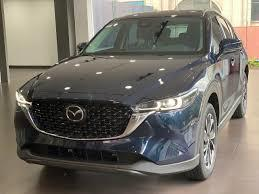mazda: (63, 101, 88, 125)
